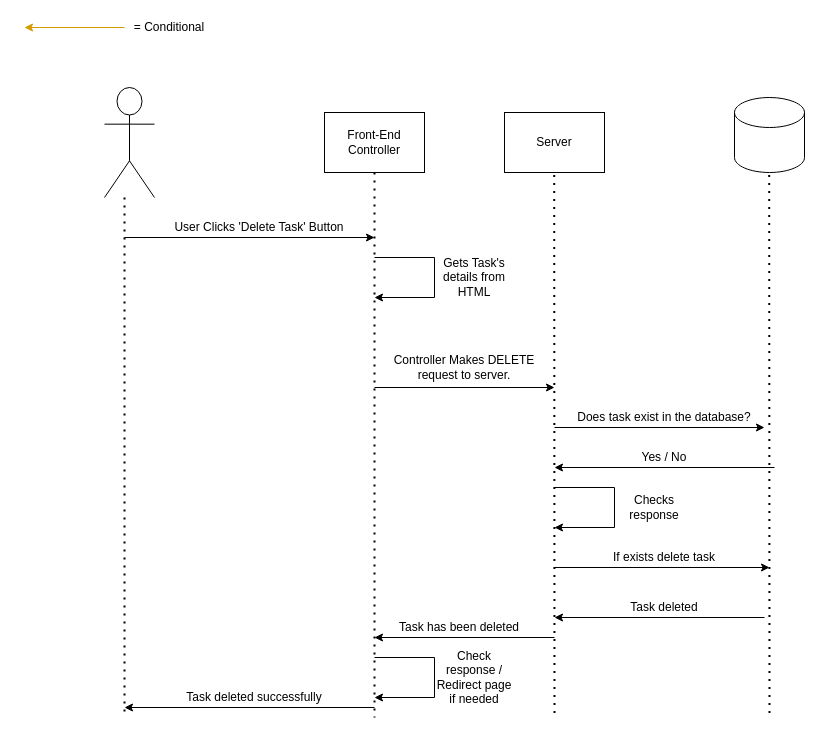
This 822x736 diagram has some shape labels left out. The centre of each missing label's shape, as x and y in pixels:
"Actor" goes at pixel 129 142.
"Database" goes at pixel 769 134.
